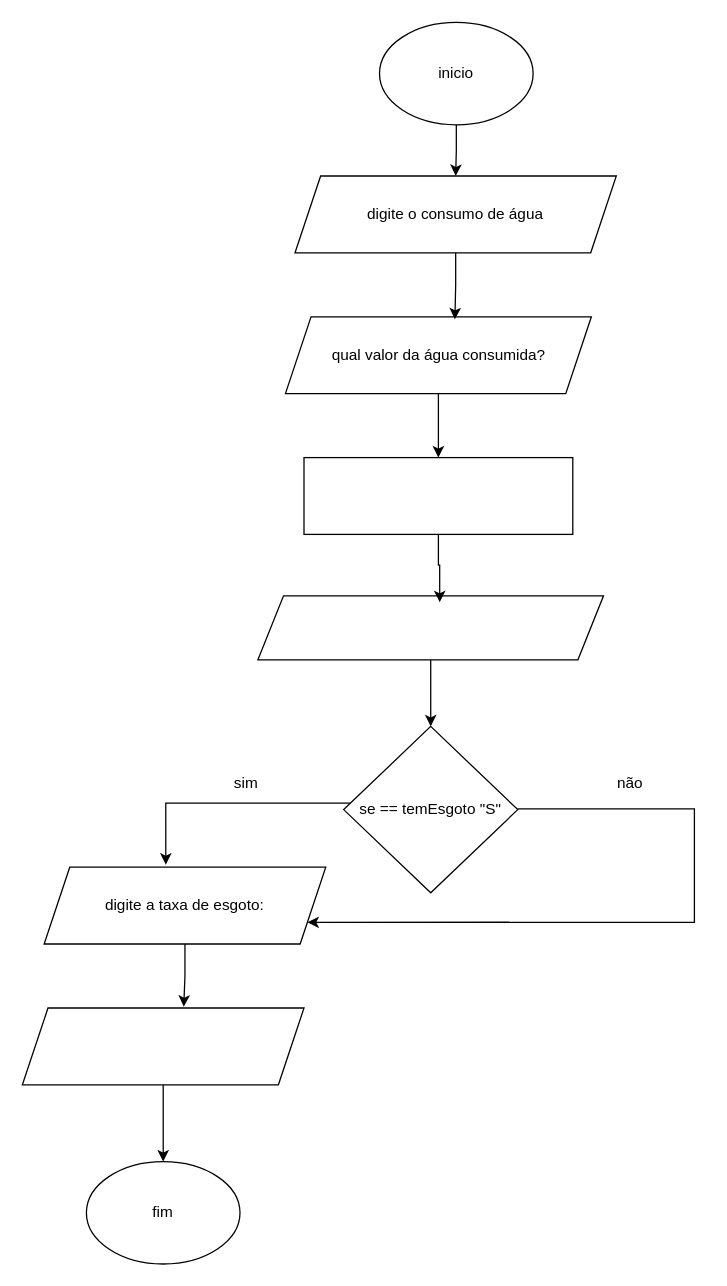
The diagram is 727 pixels wide and 1286 high, and some of its shapes have lost their labels. Here are the shapes that lost their labels. From the top down, the centre of each, then its label:
pixel 438 495: total = consumo * valor
pixel 430 627: tem esgoto?(s/n)
pixel 162 1046: mostrar "valor da conta R$: total
